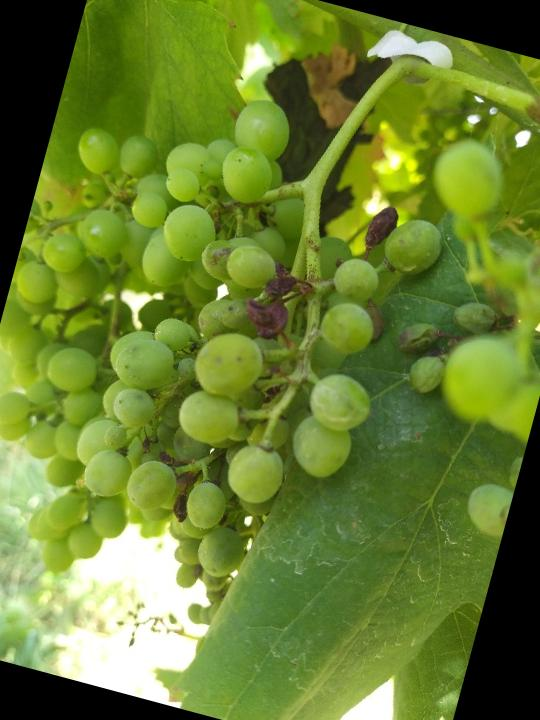grape: (63, 74, 477, 615)
